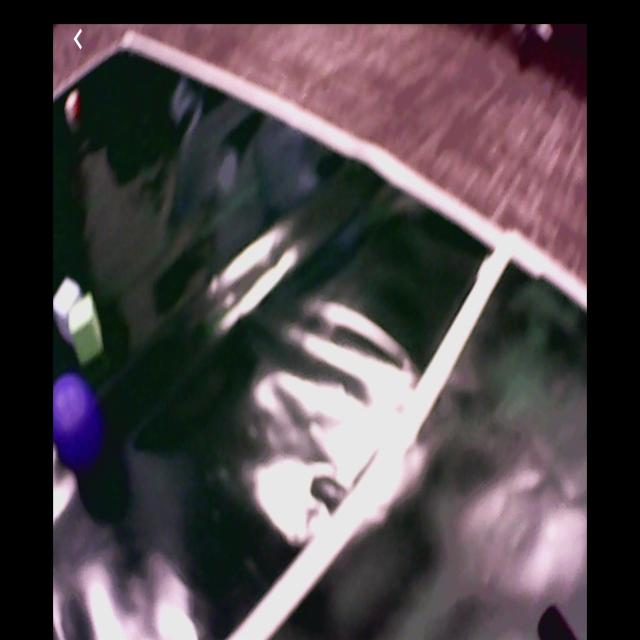ball: (54, 375, 102, 462)
